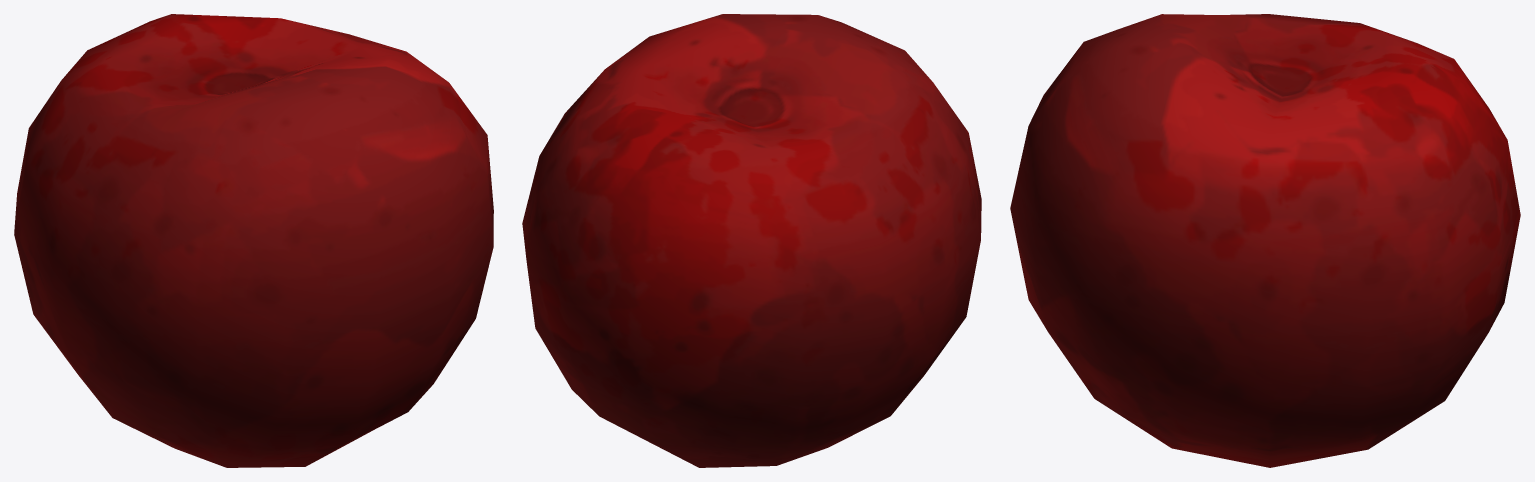
Rendered from SM_CherryE.fbx.
3 views of the same model, side by side, from view 1: azimuth 30°, elevation 25°; view 2: azimuth 150°, elevation 25°; view 3: azimuth 270°, elevation 25° (orthographic). The views are drawn at different scales.
Parts seen in each view (by area): view 1: SM_CherryE; view 2: SM_CherryE; view 3: SM_CherryE.
Boxes of the visible parts, x1,y1,x2,y2 form: SM_CherryE: [14, 14, 493, 467]; SM_CherryE: [522, 14, 981, 467]; SM_CherryE: [1010, 14, 1520, 467].
Size of the model in its own units: 4.96 by 4.69 by 5.3.
